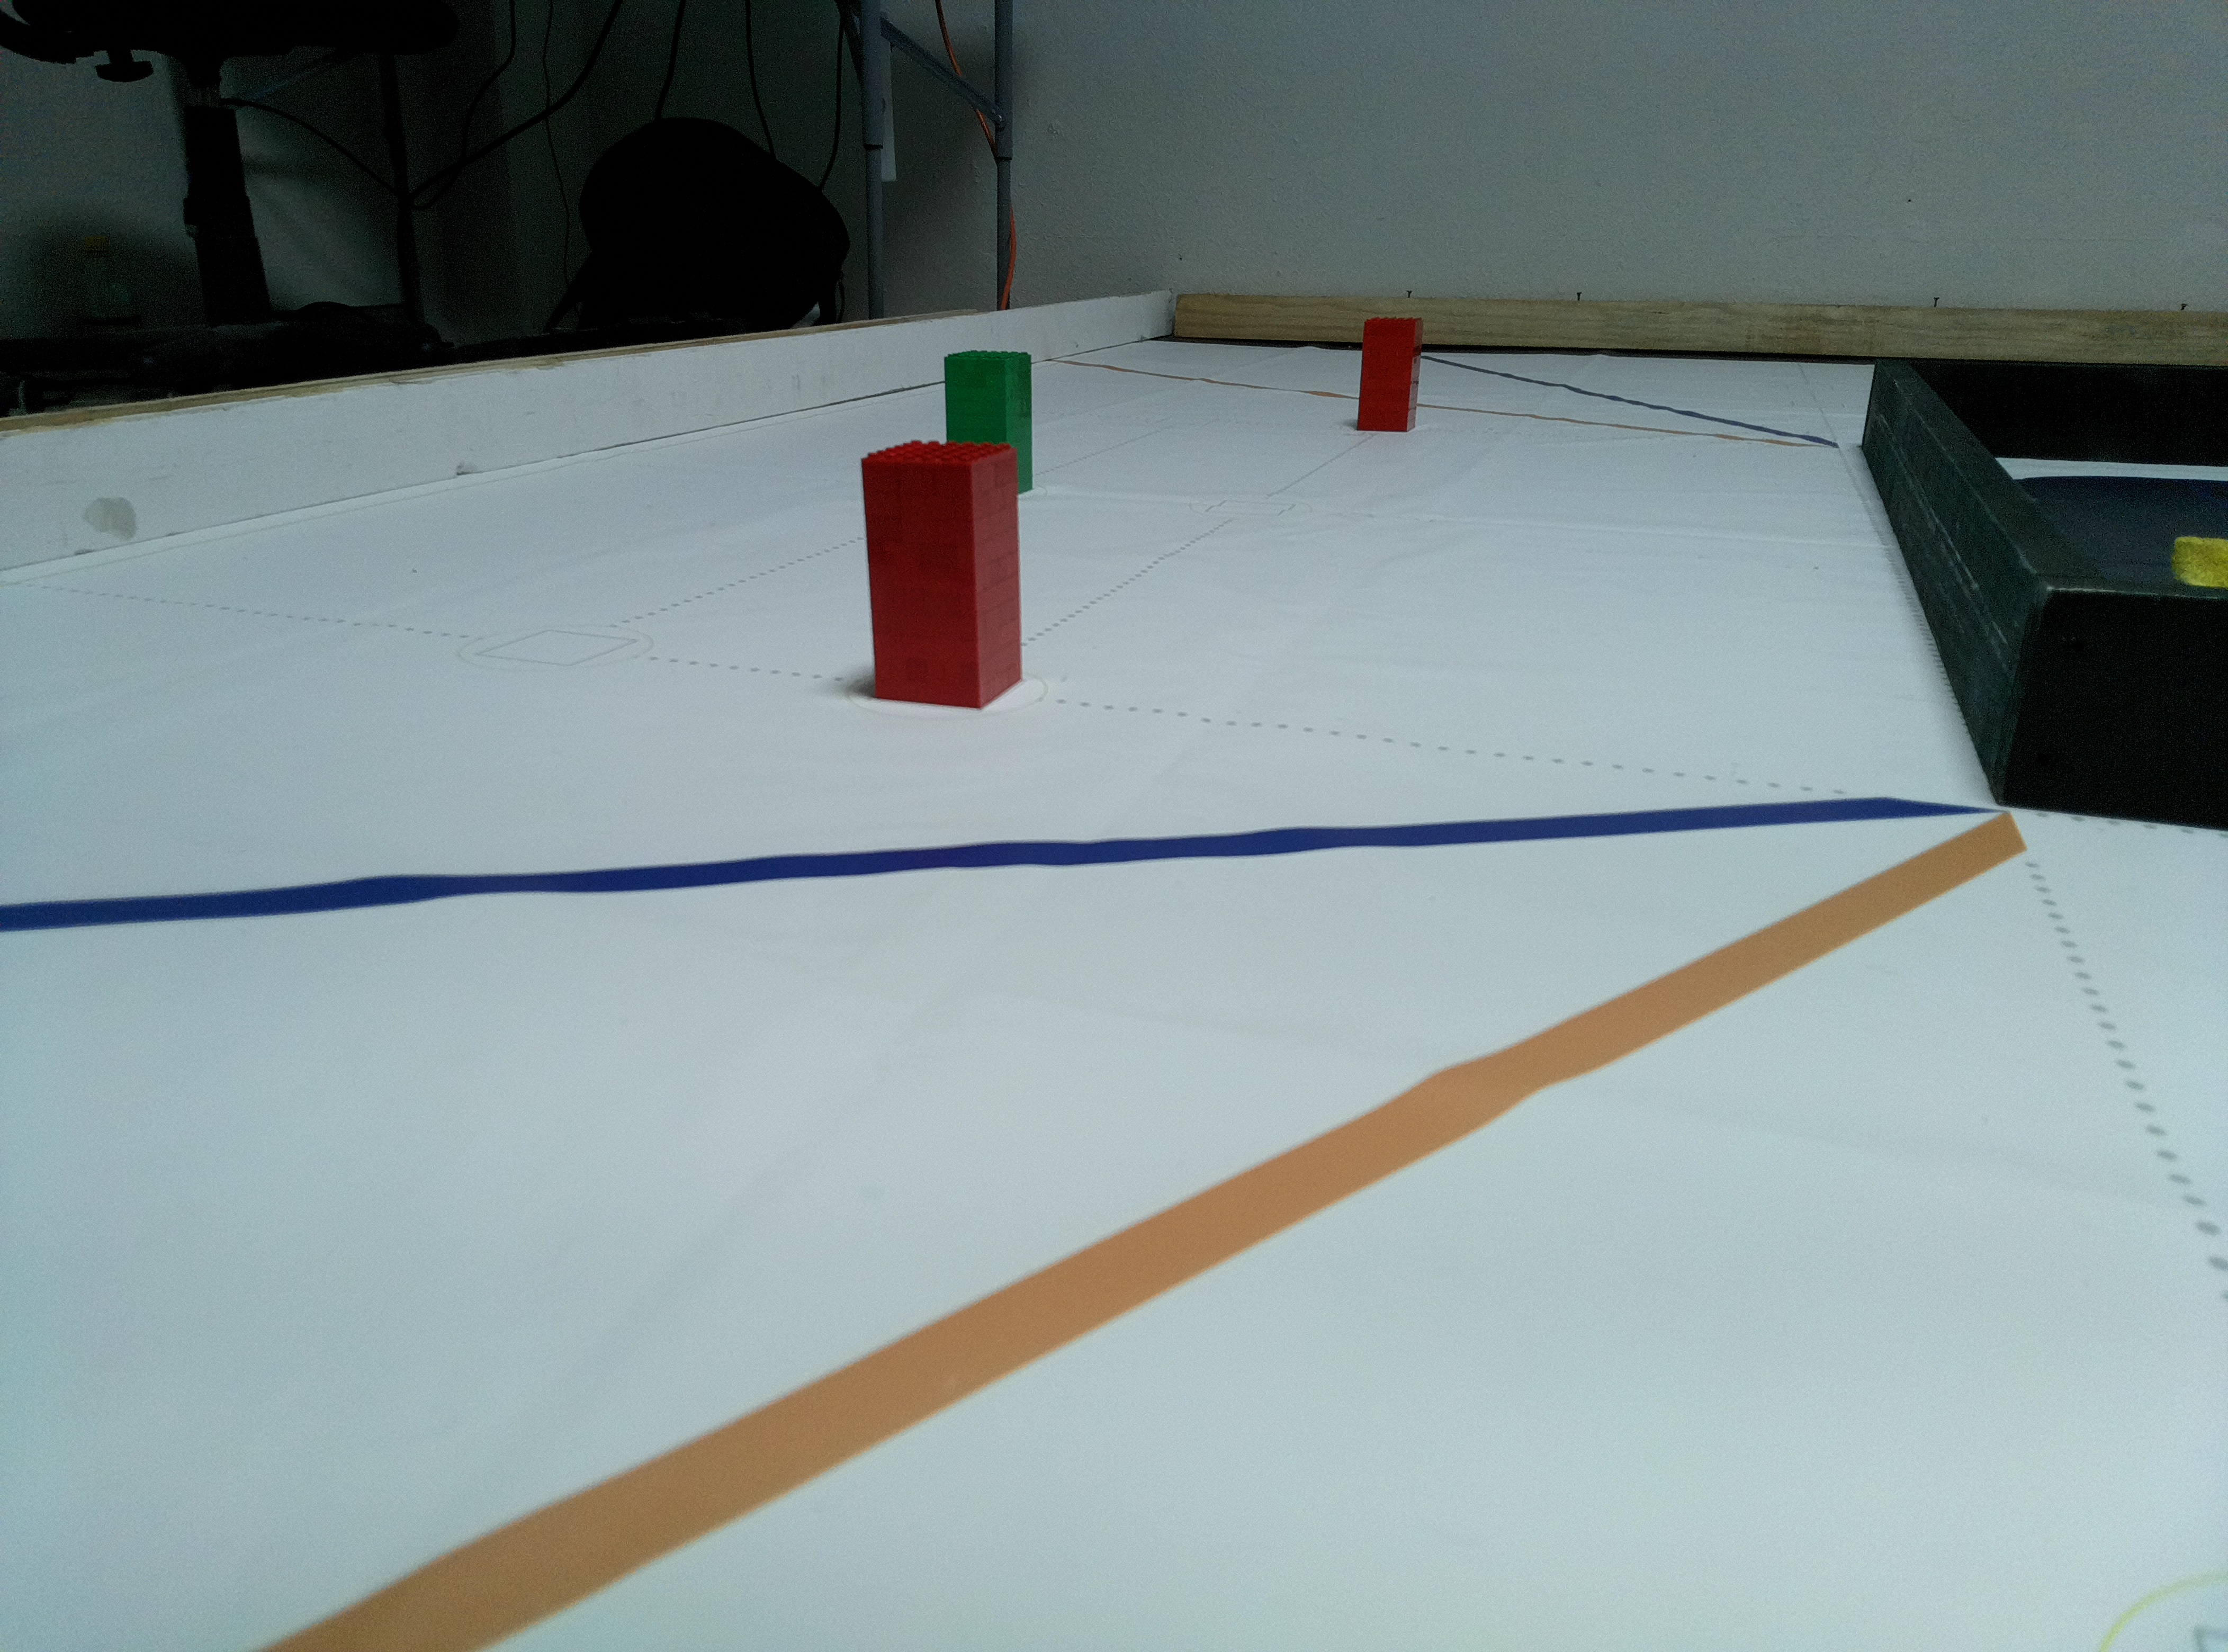greenbox: (940, 345, 1032, 495)
redbox: (855, 437, 1024, 711), (1357, 314, 1423, 434)
